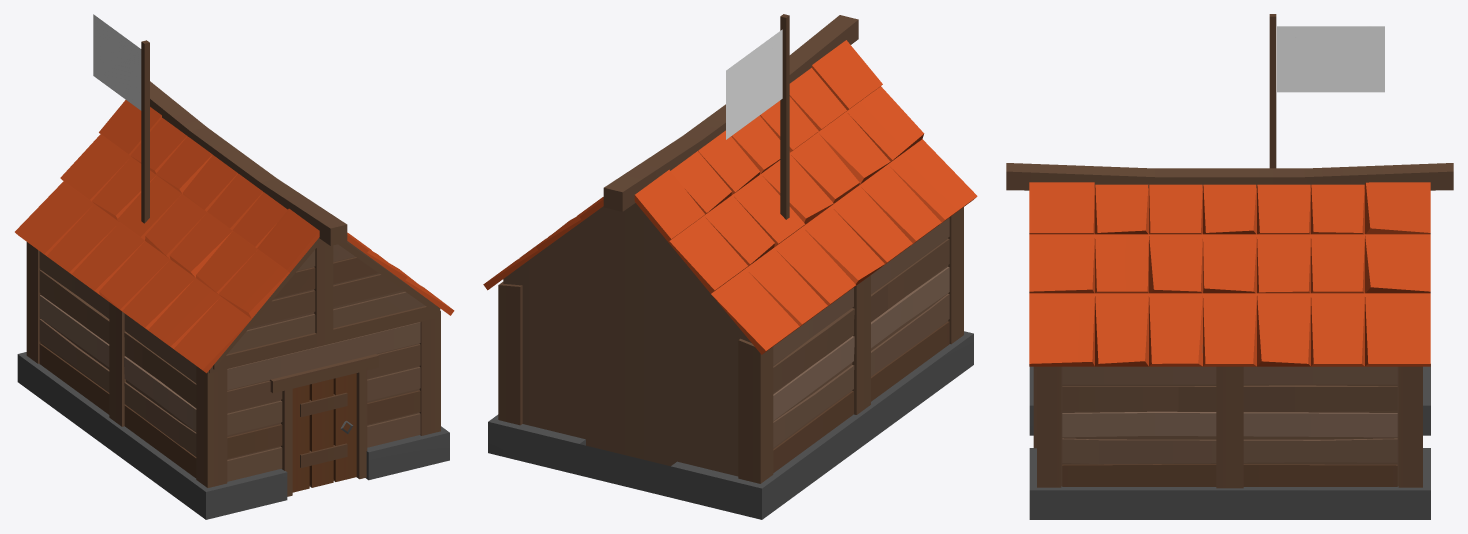
File: Town Hall Level 2.glb
The picture shows the model from 3 angles, left to right: view 1: azimuth 30°, elevation 25°; view 2: azimuth 150°, elevation 25°; view 3: azimuth 270°, elevation 25°; orthographic projection. The views are drawn at different scales.
Visible parts, largest first — view 1: Town Hall Level 2 Base, Door.002, Flag.002; view 2: Town Hall Level 2 Base, Flag.002; view 3: Town Hall Level 2 Base, Flag.002.
Boxes of the visible parts, left/top/right/bottom form: Town Hall Level 2 Base: left=15, top=40, right=454, bottom=519; Door.002: left=292, top=373, right=356, bottom=492; Flag.002: left=93, top=14, right=141, bottom=110; Town Hall Level 2 Base: left=483, top=14, right=977, bottom=519; Flag.002: left=726, top=29, right=782, bottom=139; Town Hall Level 2 Base: left=1006, top=14, right=1453, bottom=519; Flag.002: left=1277, top=26, right=1384, bottom=92.
Size of the model in its own units: 4.28 by 6.2 by 6.19.
Materials: 3 (3 with a texture image).
